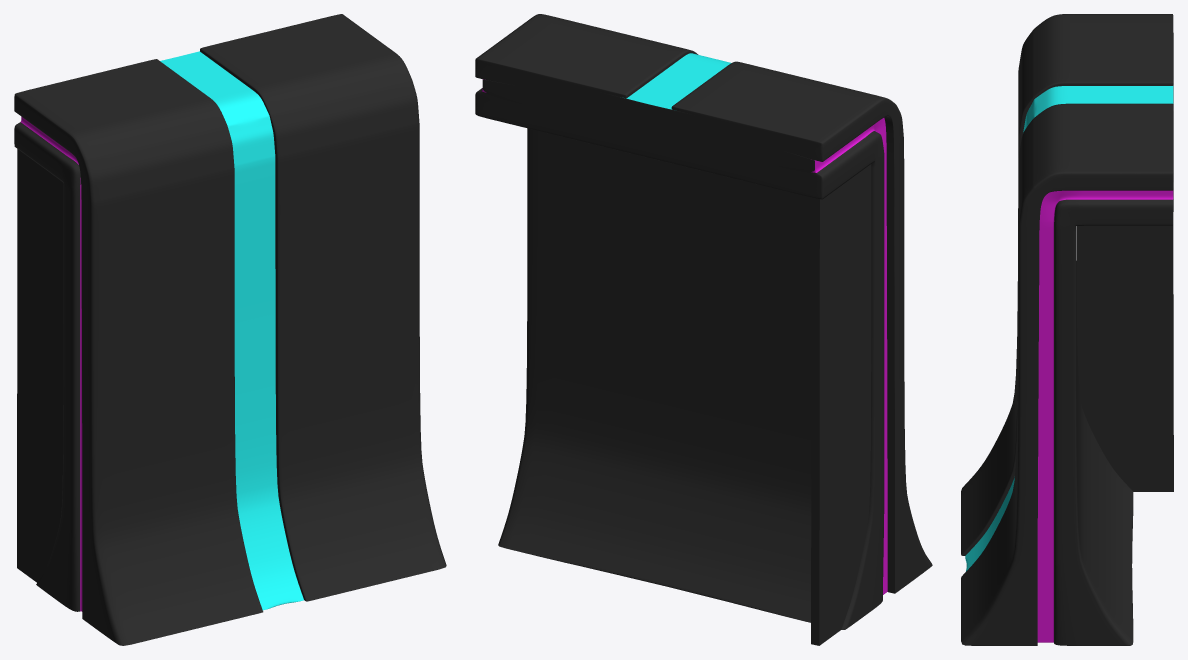
The model's file is high poly bench 1.fbx.
3 renders of one model, left to right at view 1: azimuth 30°, elevation 25°; view 2: azimuth 150°, elevation 25°; view 3: azimuth 270°, elevation 25°, orthographic. The views are drawn at different scales.
Parts seen in each view (by area): view 1: Box017; view 2: Box017; view 3: Box017.
Boxes of the visible parts, bbox=[...] form: Box017: bbox=[14, 14, 446, 645]; Box017: bbox=[475, 14, 932, 645]; Box017: bbox=[961, 14, 1173, 645].
Size of the model in its own units: 19.67 by 27.23 by 11.09.
